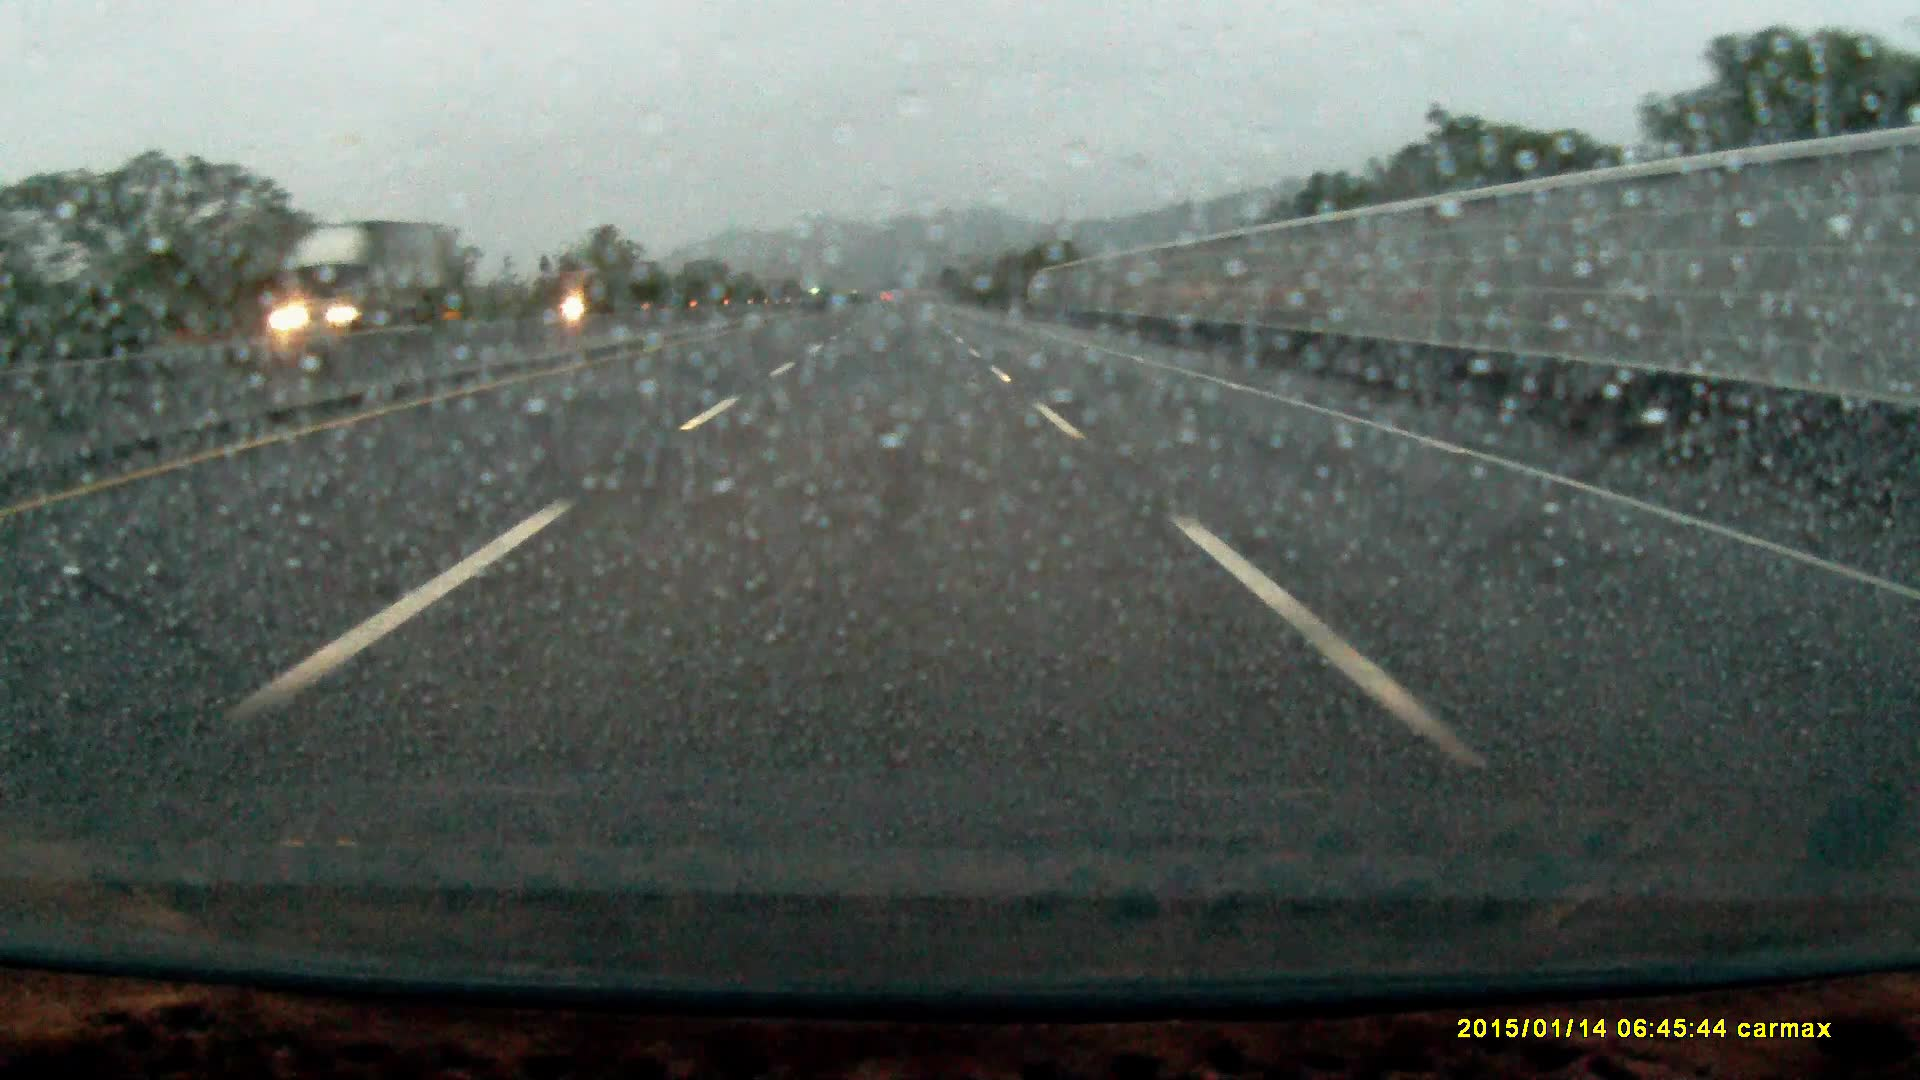vehicle: (255, 227, 454, 335)
